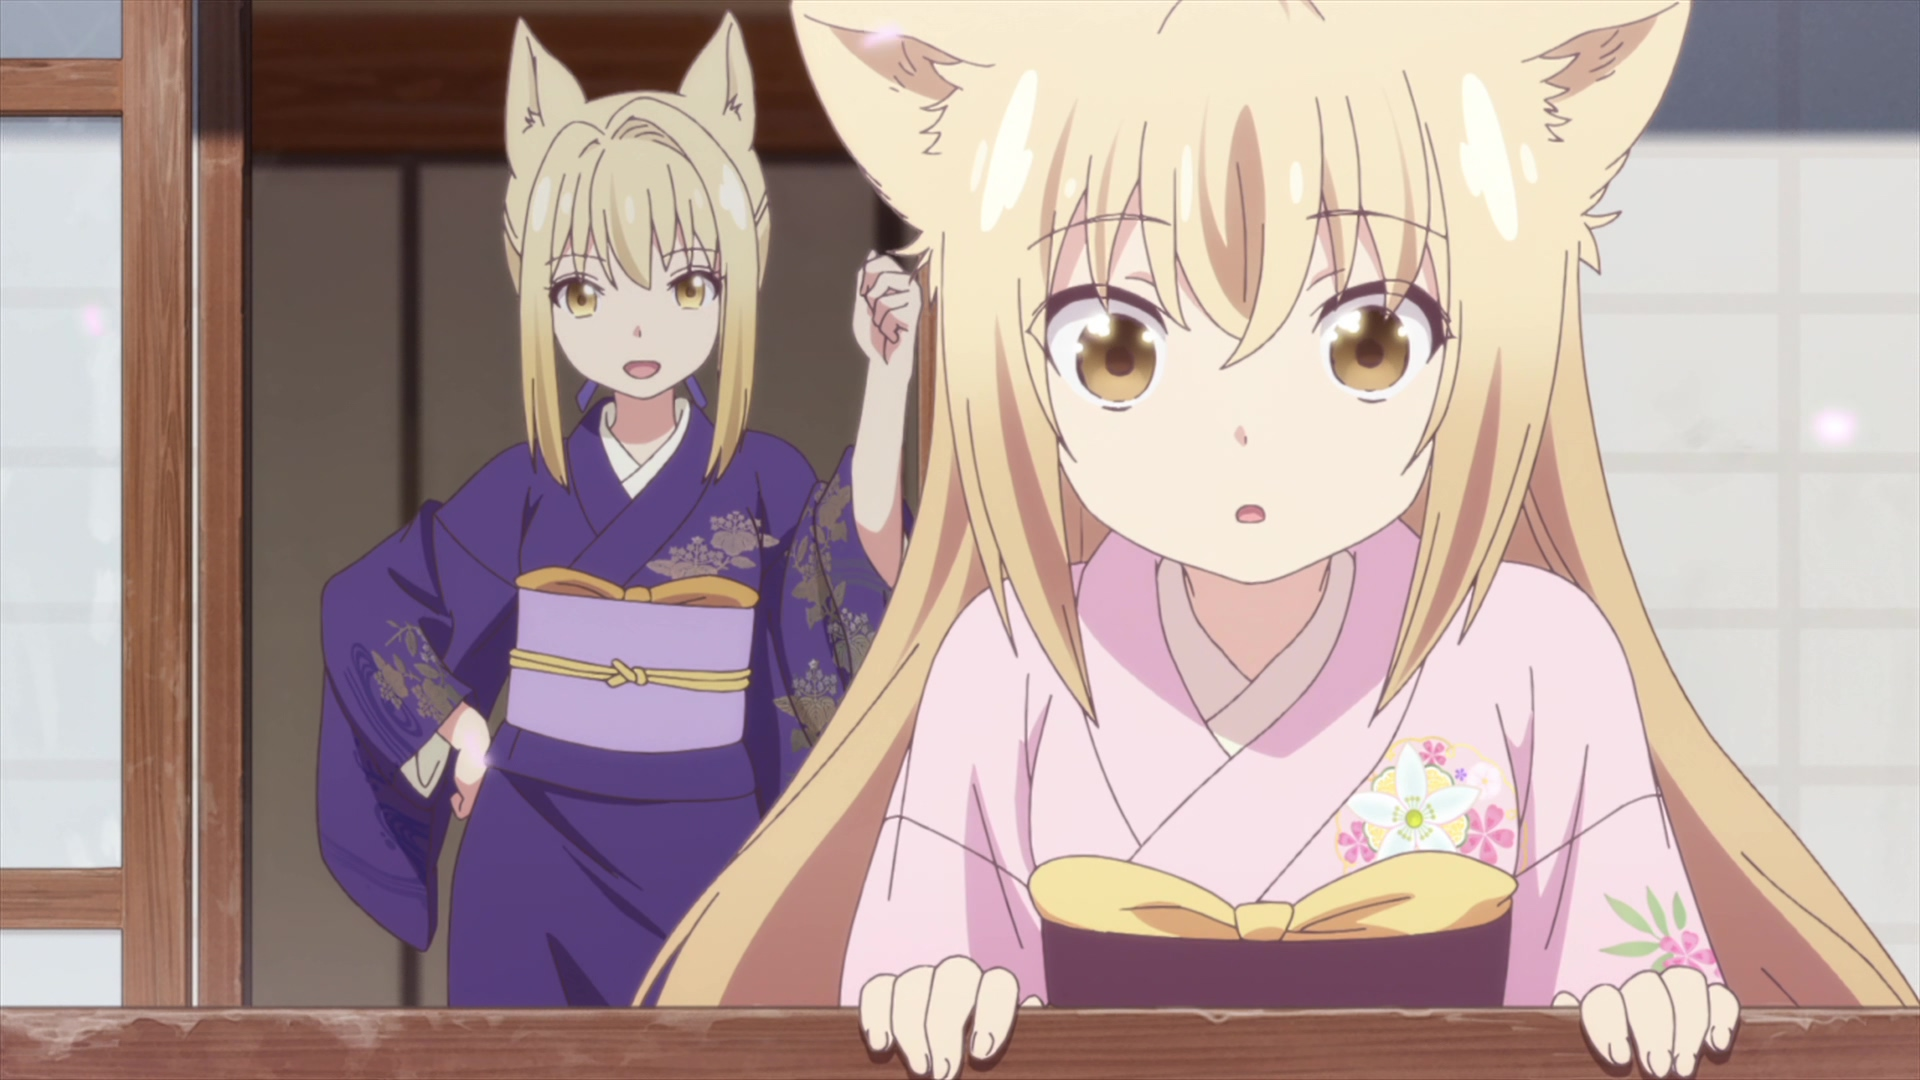柚: (632, 1, 1920, 1080)
桐: (314, 9, 923, 1004)
